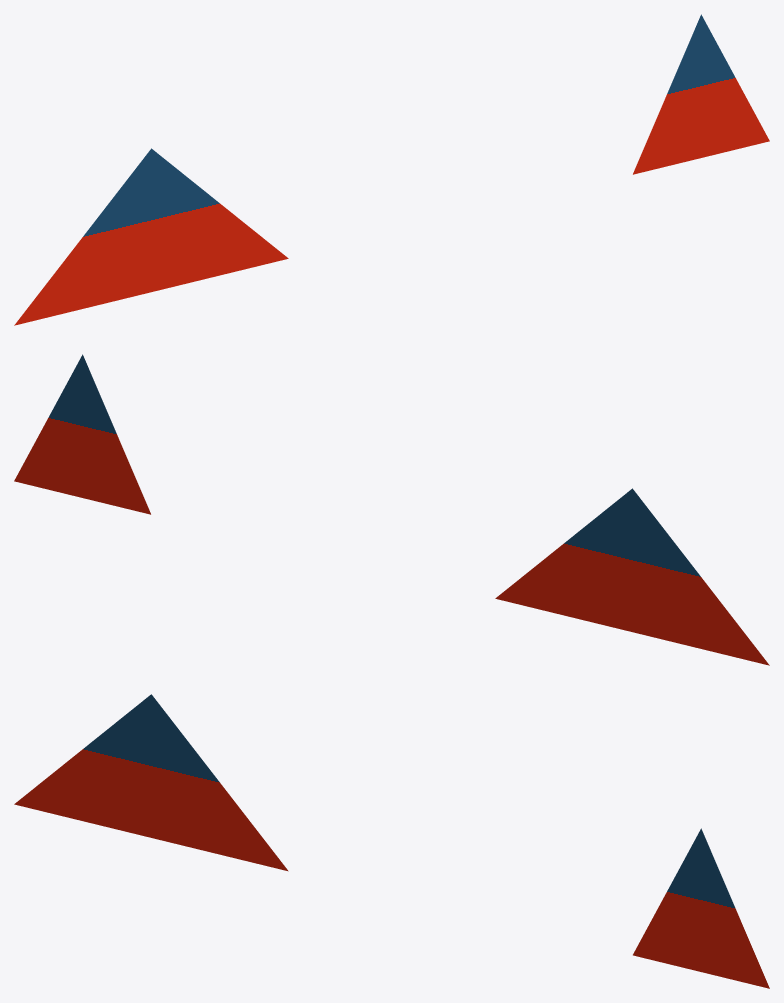
File: district.gltf
3 views of the same model, one above another, from view 1: azimuth 30°, elevation 25°; view 2: azimuth 150°, elevation 25°; view 3: azimuth 330°, elevation 25° (orthographic).
Parts seen in each view (by area): view 1: LeftInstance, RightInstance; view 2: LeftInstance, RightInstance; view 3: LeftInstance, RightInstance.
Boxes of the visible parts, left/top/right/bottom form: LeftInstance: left=14, top=148, right=288, bottom=325; RightInstance: left=633, top=14, right=769, bottom=174; LeftInstance: left=495, top=488, right=769, bottom=665; RightInstance: left=14, top=354, right=150, bottom=514; LeftInstance: left=14, top=694, right=288, bottom=871; RightInstance: left=633, top=828, right=769, bottom=988.
Size of the model in its own units: 5.5 by 1 by 0.
1 material, 1 textured.
